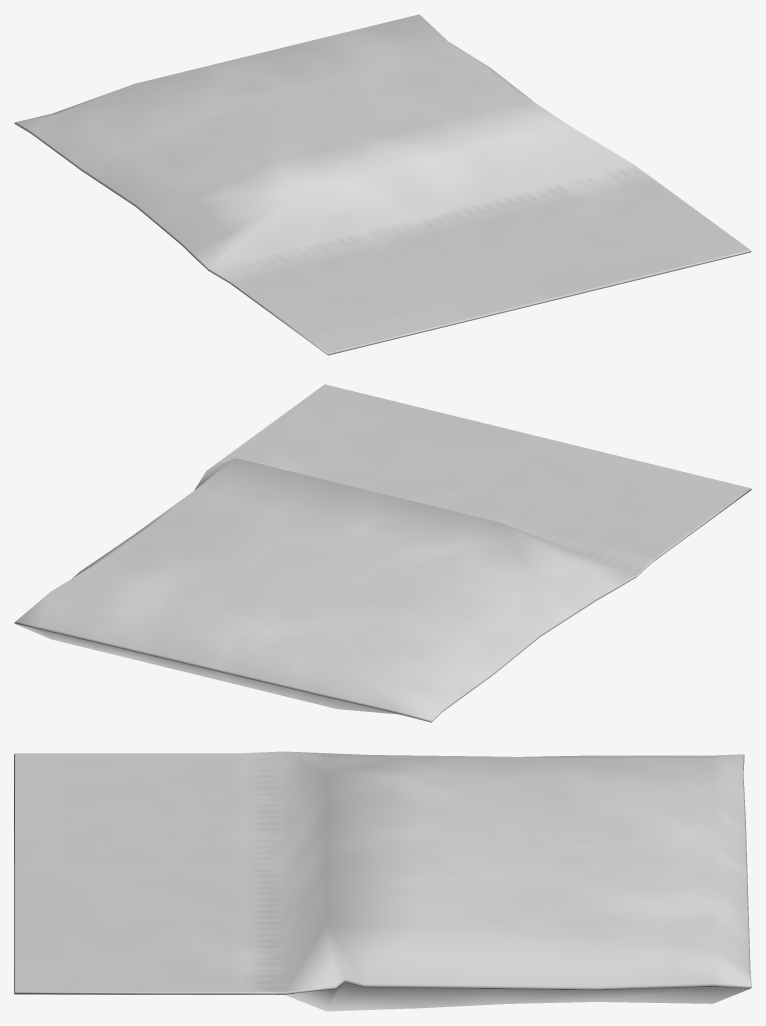
The model's file is GTBubbleGlue.obj.
3 views of the same model, one above another, from view 1: azimuth 30°, elevation 25°; view 2: azimuth 150°, elevation 25°; view 3: azimuth 270°, elevation 25° (orthographic). The views are drawn at different scales.
Parts seen in each view (by area): view 1: paoPaoJiao; view 2: paoPaoJiao; view 3: paoPaoJiao.
Boxes of the visible parts, x1,y1,x2,y2 form: paoPaoJiao: [14, 14, 751, 355]; paoPaoJiao: [14, 384, 751, 722]; paoPaoJiao: [14, 751, 751, 1011].
Bounding box in the file's own units: 1.31 × 0.2234 × 1.7.
